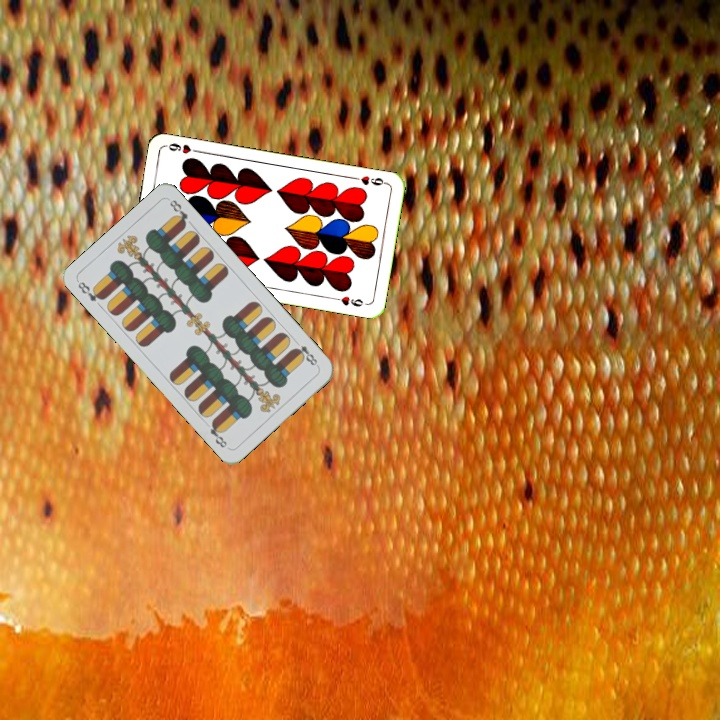E8: (289, 336, 321, 370), (74, 277, 107, 304)
H9: (349, 172, 390, 188)
